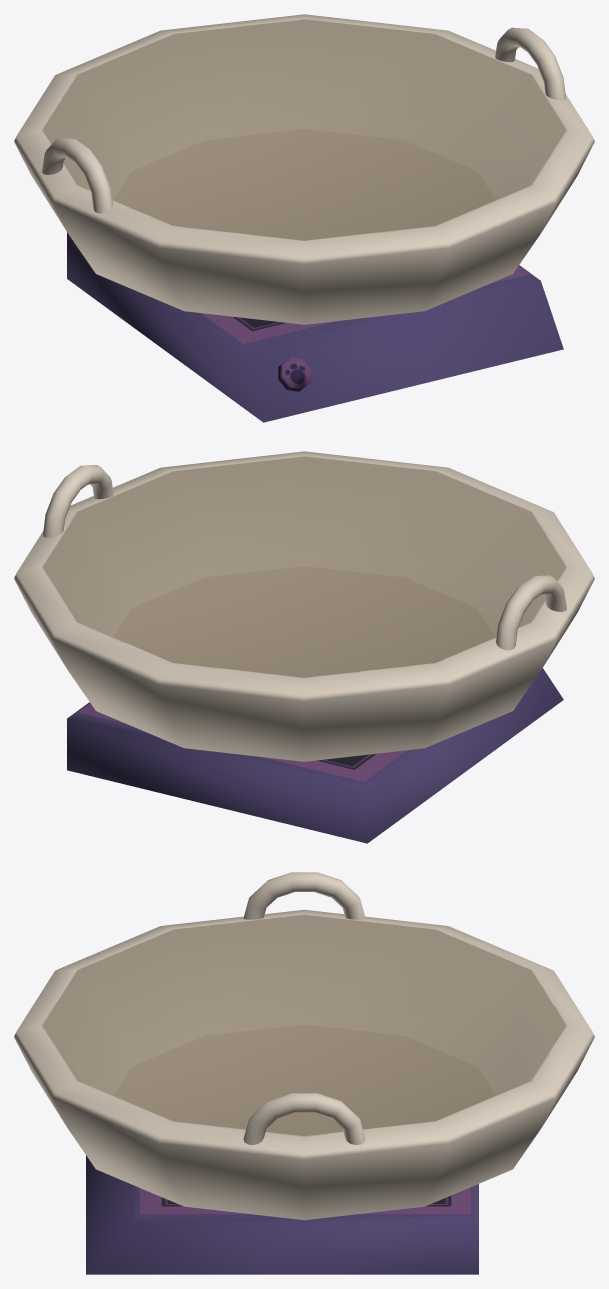
File: Pan.fbx
3 renders of one model, top to bottom at view 1: azimuth 30°, elevation 25°; view 2: azimuth 150°, elevation 25°; view 3: azimuth 270°, elevation 25°, orthographic.
Visible parts, largest first — view 1: pan; view 2: pan; view 3: pan.
Part boxes in pixels (<box>): pan: <box>14,14,594,422</box>; pan: <box>14,451,594,843</box>; pan: <box>14,872,594,1274</box>.
Size of the model in its own units: 110 by 45.42 by 110.
